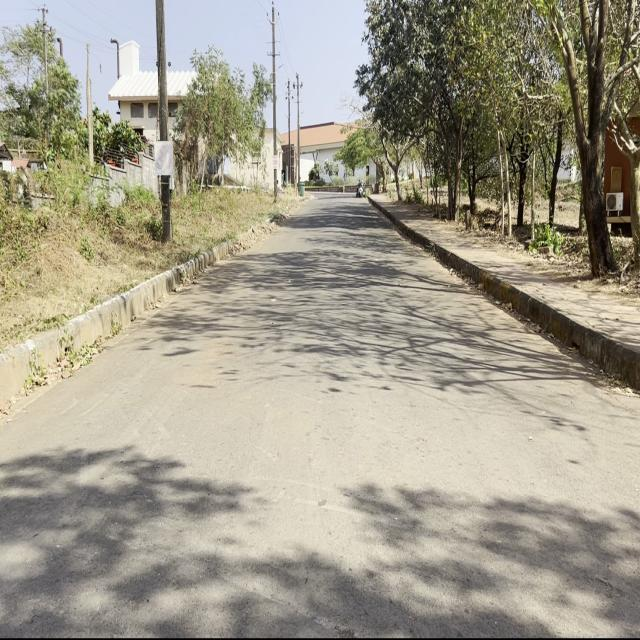Road: (6, 200, 635, 630)
